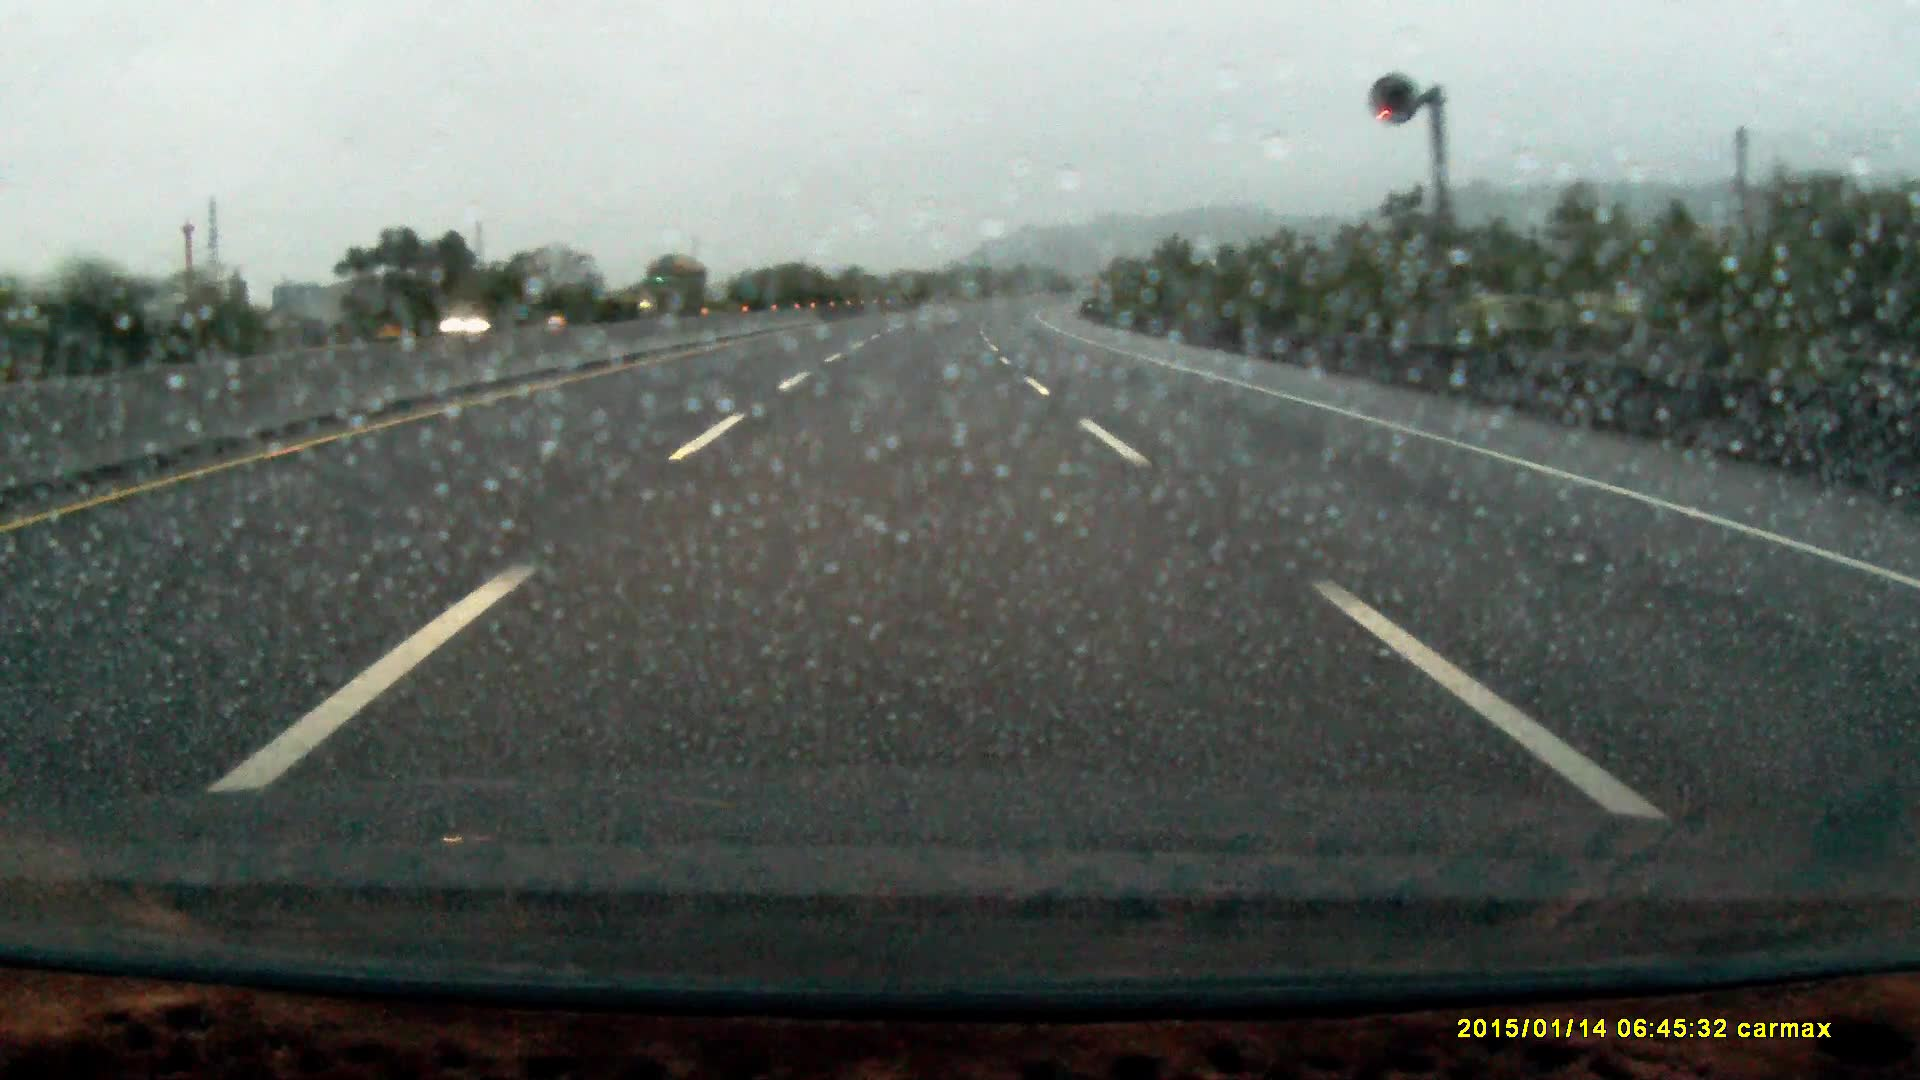vehicle: (636, 258, 712, 320), (440, 302, 527, 334)
